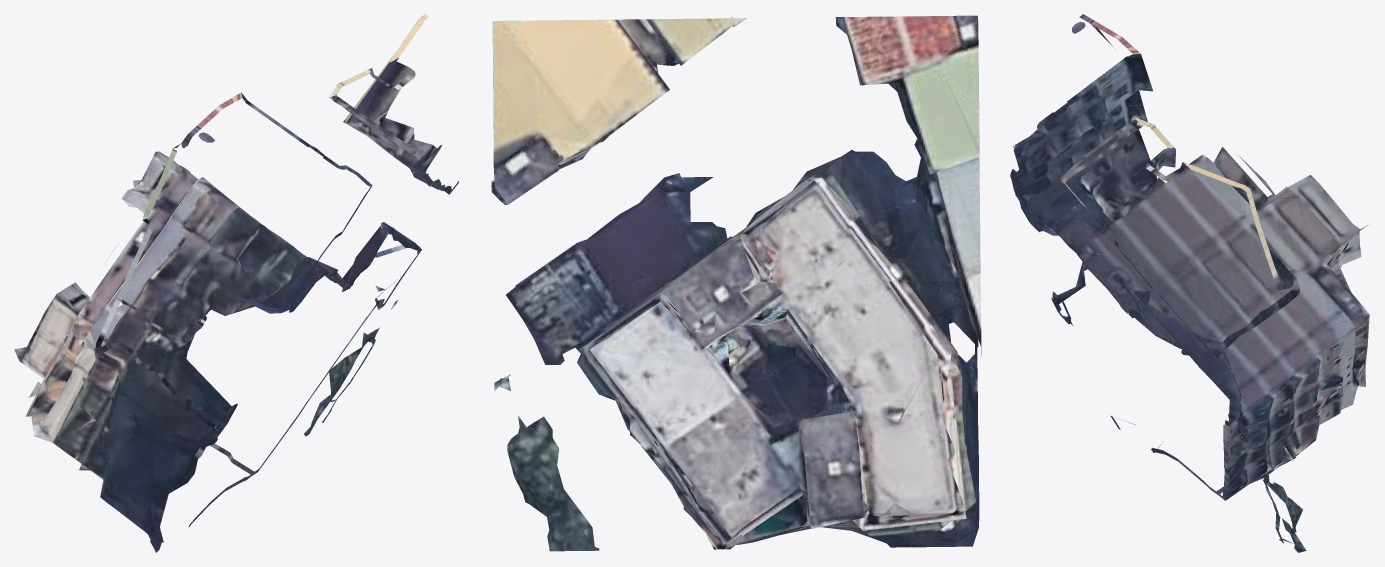
3 views of the same model, side by side, from view 1: azimuth 30°, elevation 25°; view 2: azimuth 150°, elevation 25°; view 3: azimuth 270°, elevation 25° (orthographic). The views are drawn at different scales.
Bounding box in the file's own units: 40.81 × 40.7 × 31.32.
Materials: 1 (1 with a texture image).
